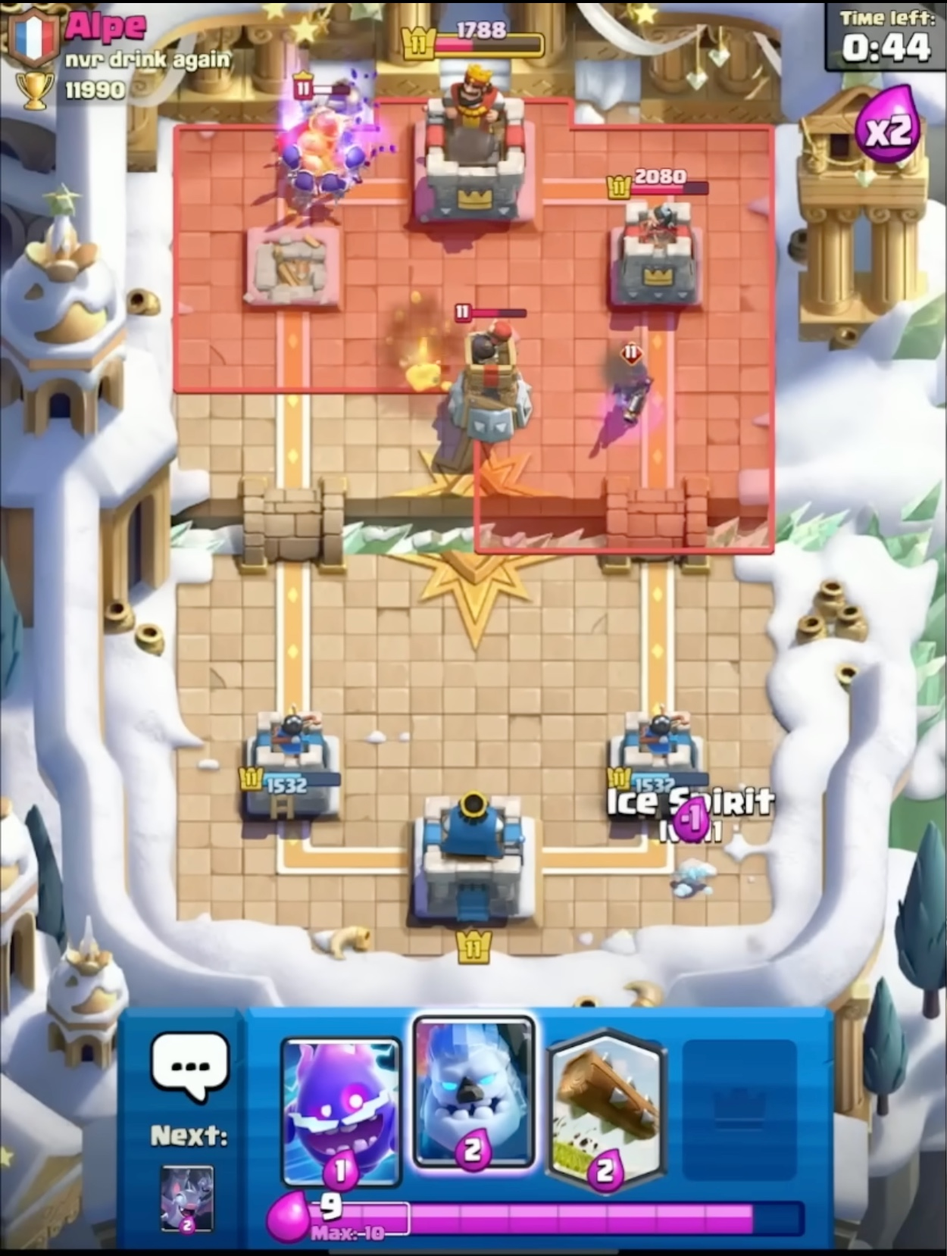bomb-tower: (441, 300, 536, 441)
evo-musketeer: (609, 337, 658, 434)
hero-knight: (282, 66, 362, 198)
